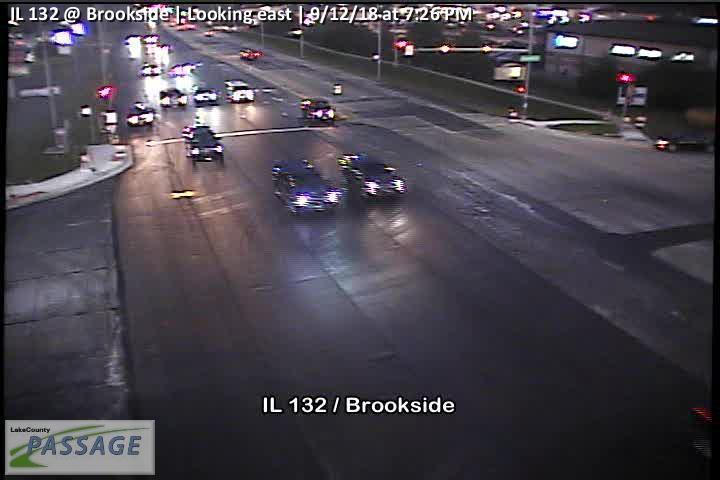Sedan: (269, 157, 341, 218), (339, 148, 407, 200), (181, 123, 224, 160), (302, 97, 334, 121)
